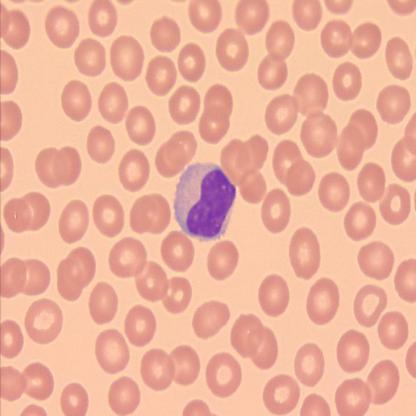Lymphocyte: (172, 160, 238, 243)
